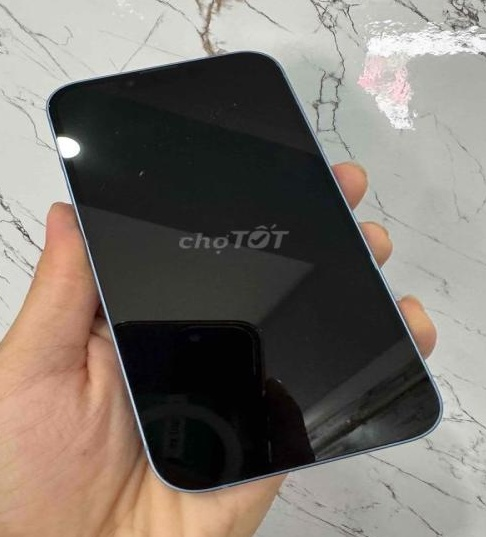scratch: (125, 162, 153, 190), (272, 372, 300, 396), (344, 412, 363, 432)
